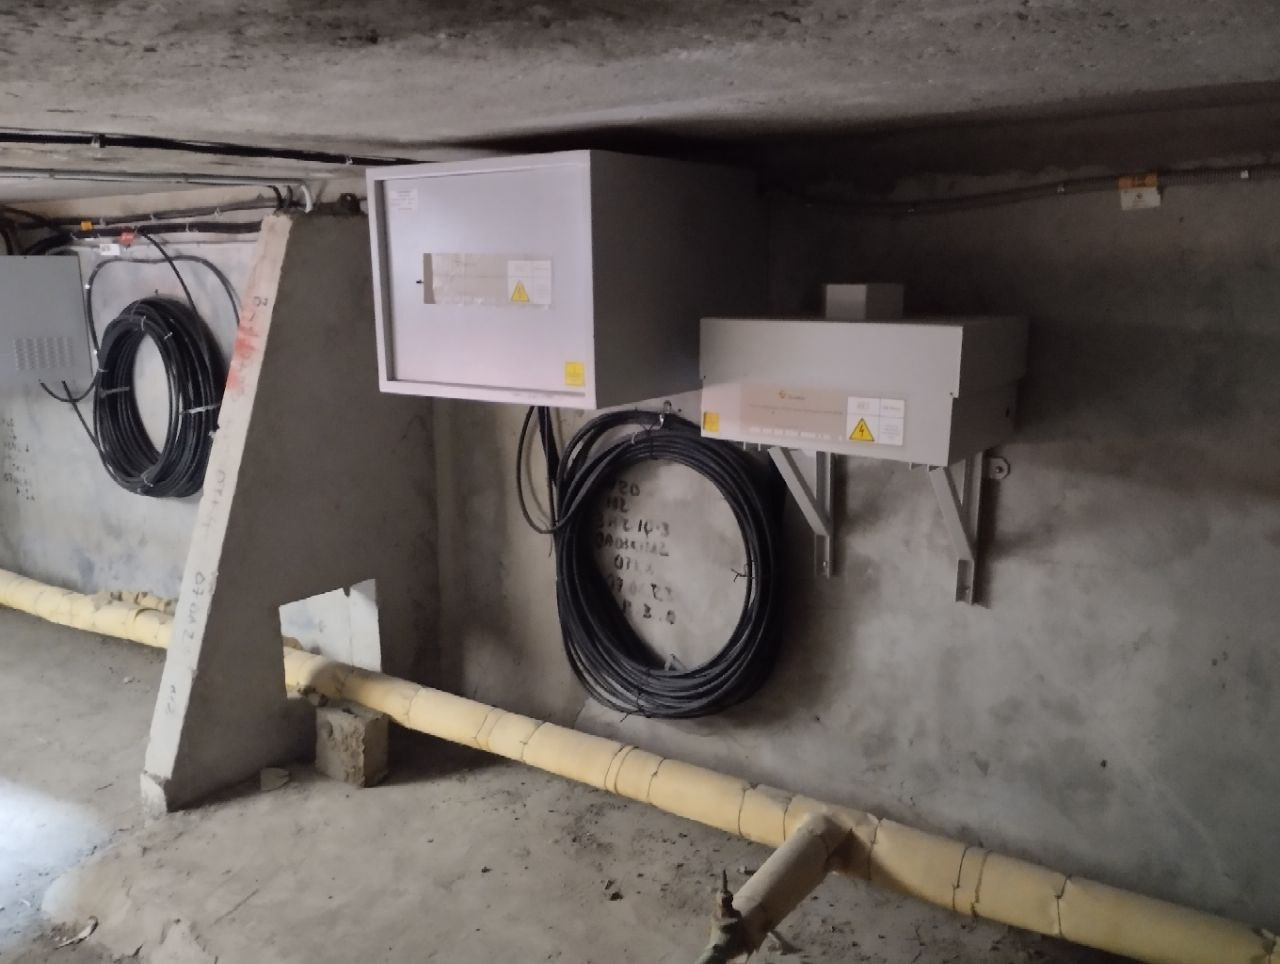shta-9m: (354, 137, 780, 421)
shta-ps: (690, 275, 1038, 471)
